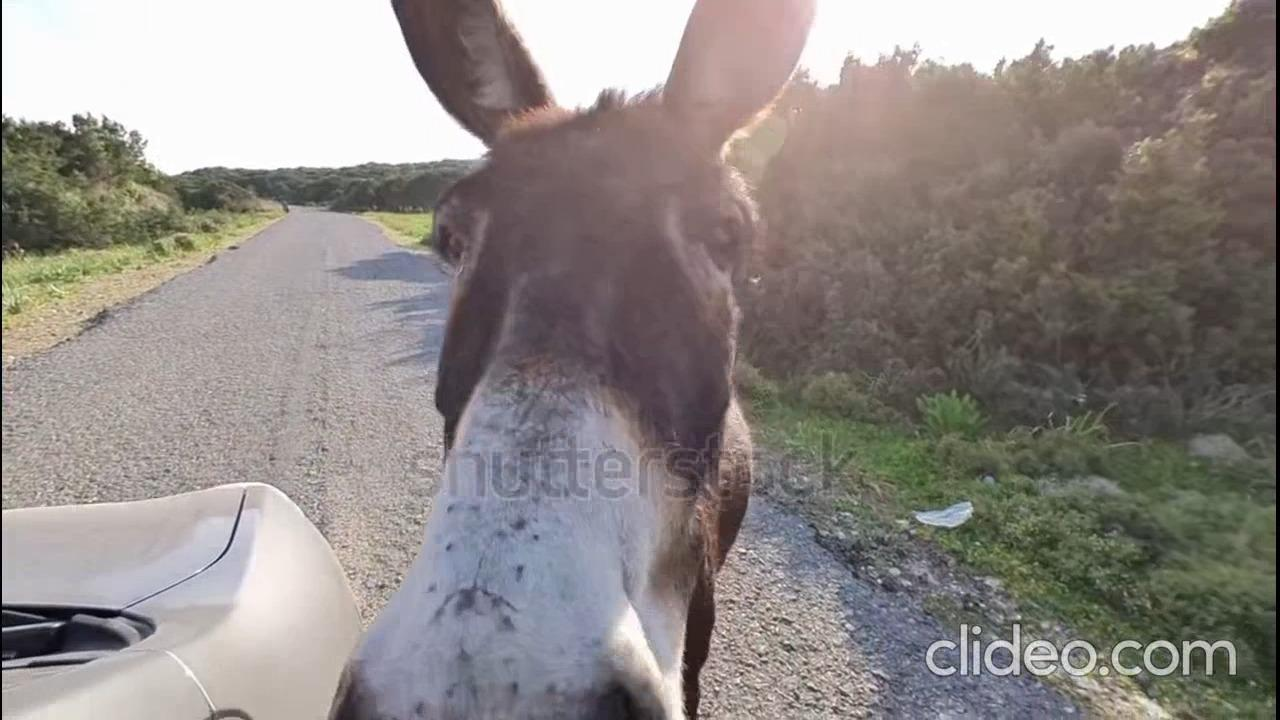Donkey: (327, 0, 813, 720)
